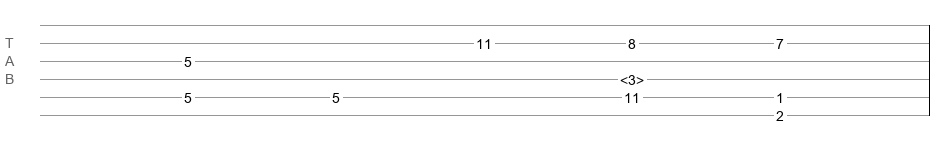1: (776, 90, 784, 100)
11: (476, 36, 492, 46), (624, 90, 640, 100)
2: (776, 108, 784, 118)
5: (184, 90, 192, 100), (184, 54, 192, 64), (332, 90, 340, 100)
7: (776, 36, 784, 46)
8: (628, 36, 636, 46)
harmonic: (620, 72, 644, 82)
